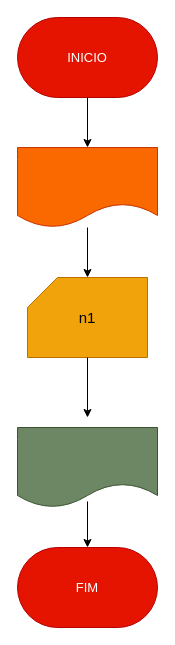
The diagram is 175 pixels wide and 645 high, and some of its shapes have lost their labels. The centre of each missing label's shape, as x and y in pixels:
"INFORME UM NÚMERO ": [87,187]
"O NÚMERO INFORMADO FOI ", n1: [87,467]
